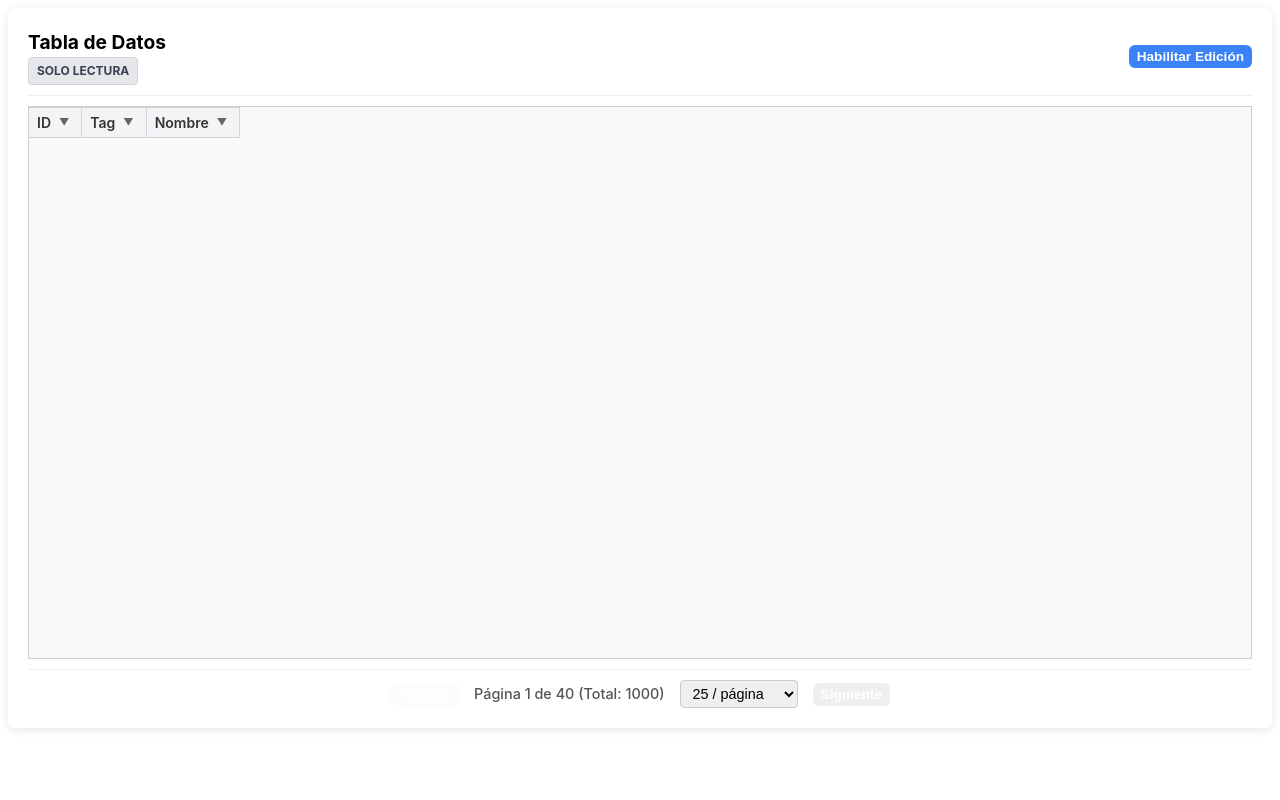
Test: ExcelGrid: grilla paginada en servidor con filtro de página (filterScope por defecto) › filtra solo dentro de las 25 filas cargadas, sin consultar al servidor
What coordinates should you click on to do the following:
click the icon with class "filter-icon" next to "Tag"
I would click on:
 (129, 122)
Its box is [123,116,134,128].
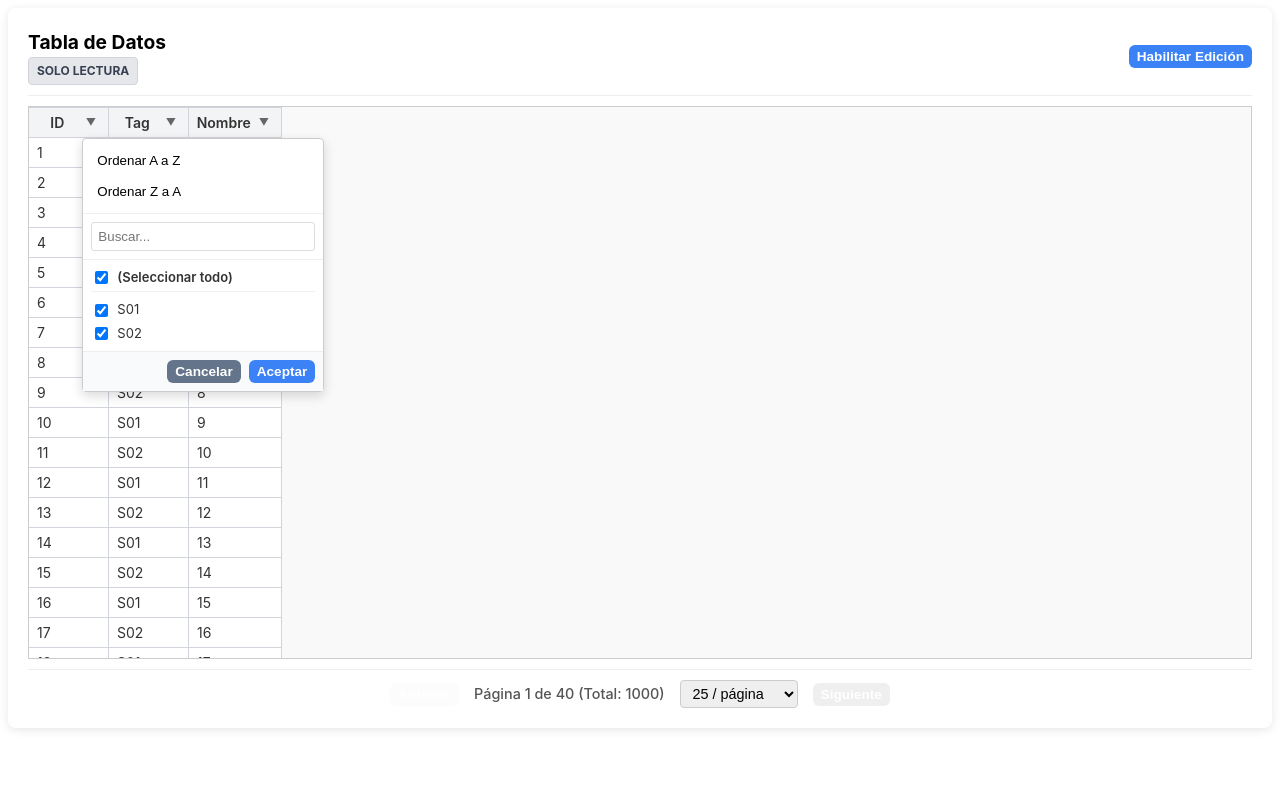
What coordinates should you click on to do the following:
click the checkbox labelled "S02"
I would click on:
 (102, 334)
Its box is [95,327,108,340].
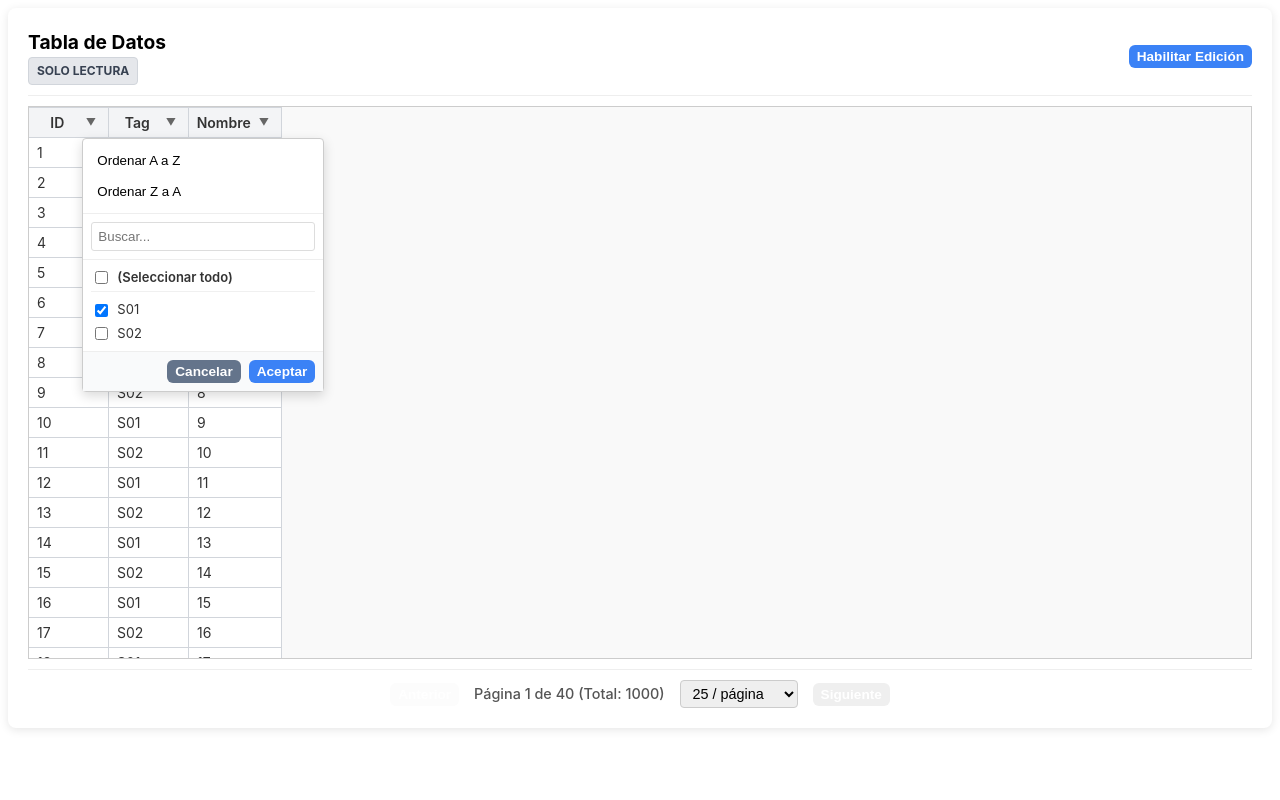
What coordinates should you click on to do the following:
click the button "Aceptar"
I would click on:
 (282, 372)
Its box is [249,360,315,383].
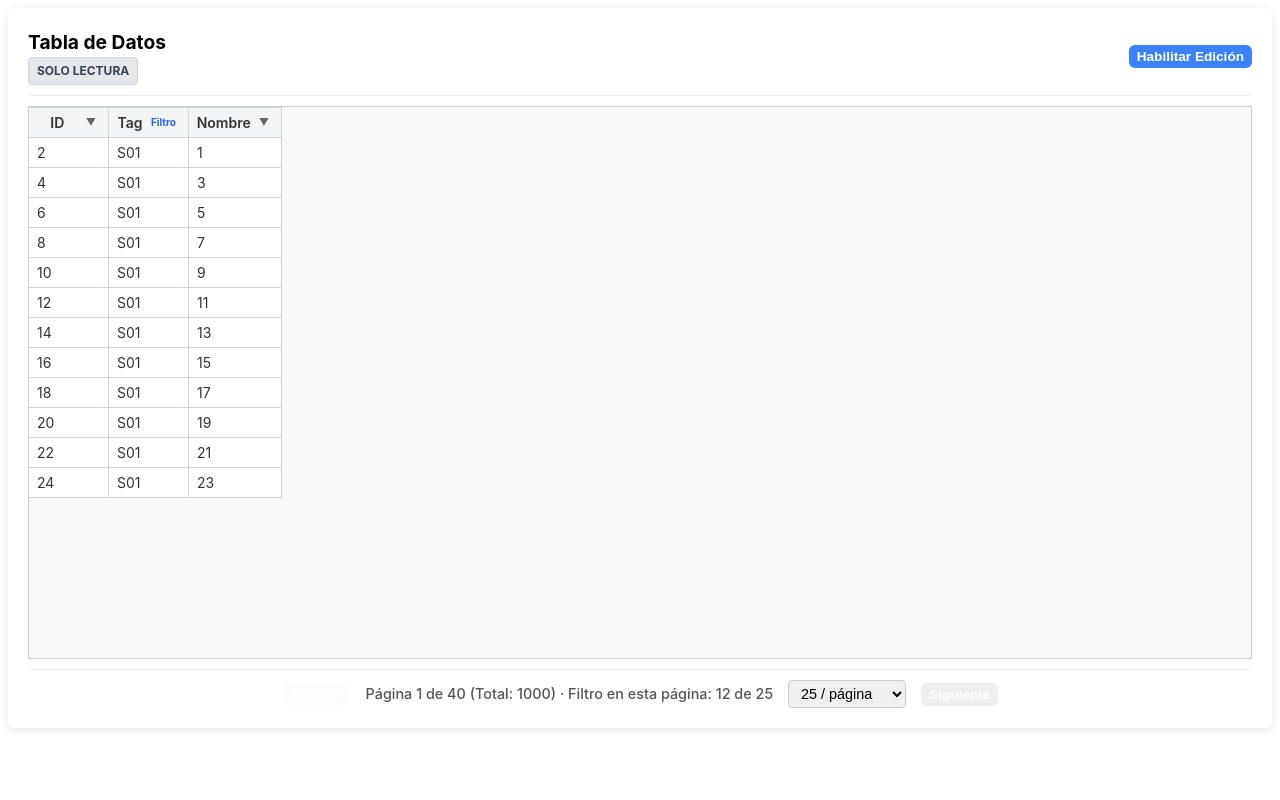
Expected: the text "Filtro en esta página: 12 de 25" is shown, [560,685,773,702]
